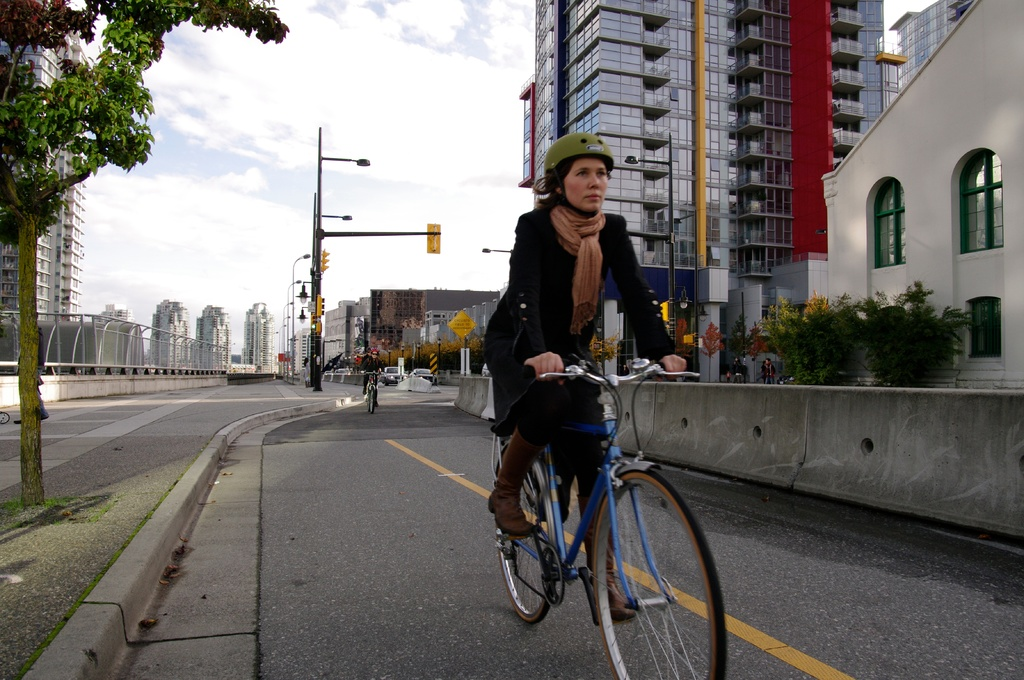Bike: (461, 358, 740, 679), (355, 363, 387, 412)
